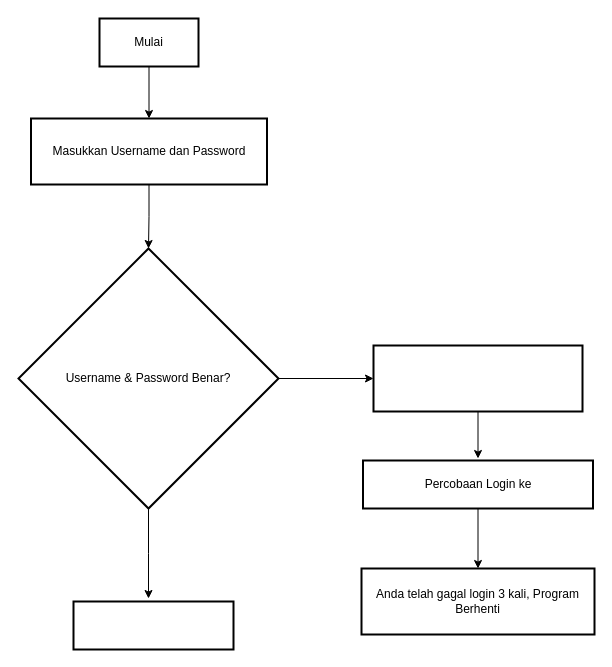
The diagram is 612 pixels wide and 667 high, and some of its shapes have lost their labels. Here are the shapes that lost their labels. From the top down, the box of each, then its label:
(372, 344, 583, 412): Login Gagal, Tambah Percobaan
(72, 600, 234, 650): Login Berhasil
